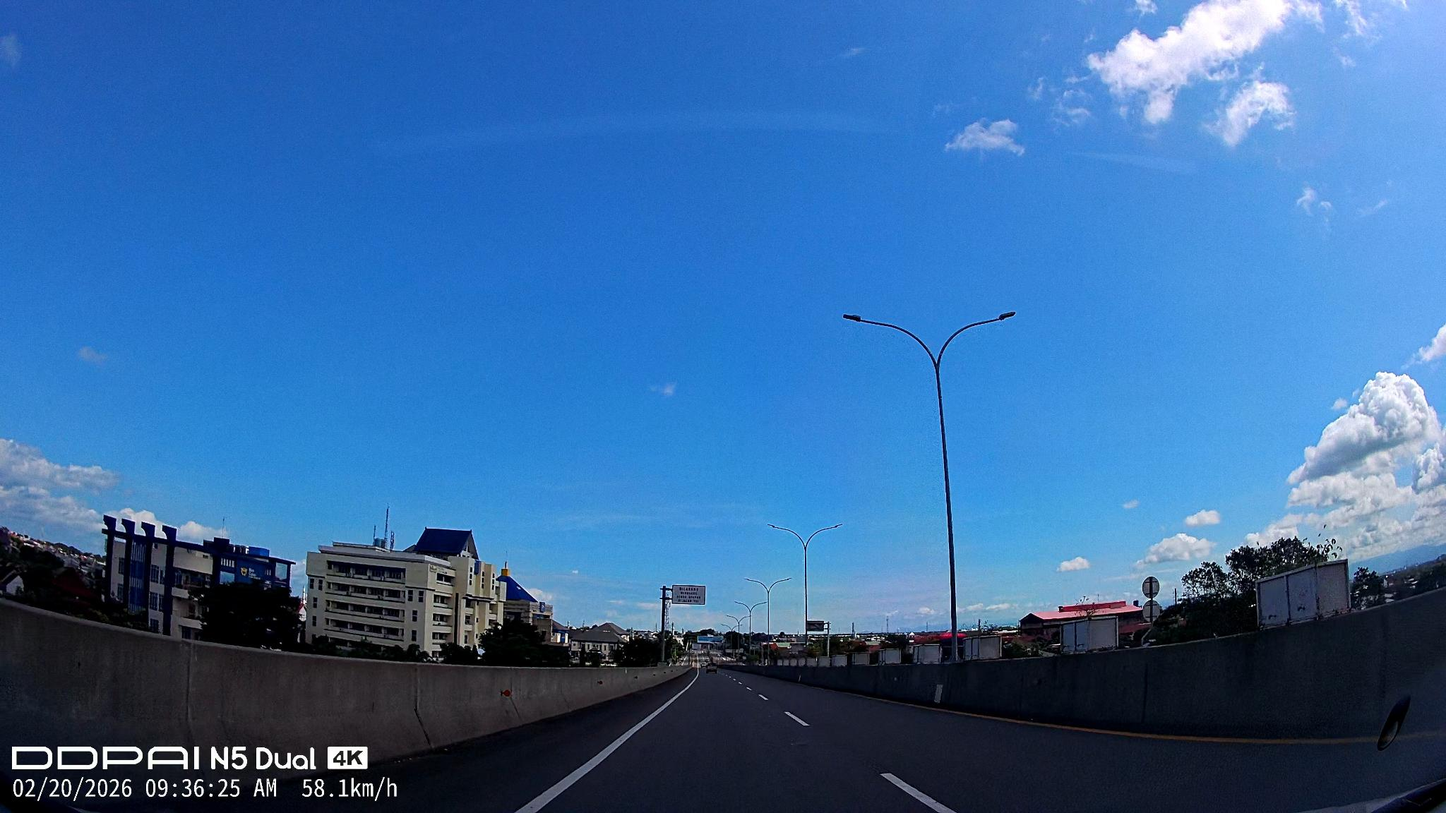rambu_teks: (671, 584, 706, 605)
